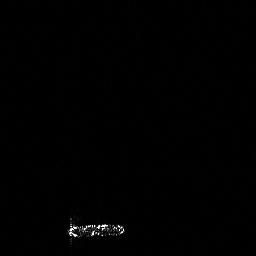ship: (64, 215, 125, 244)
